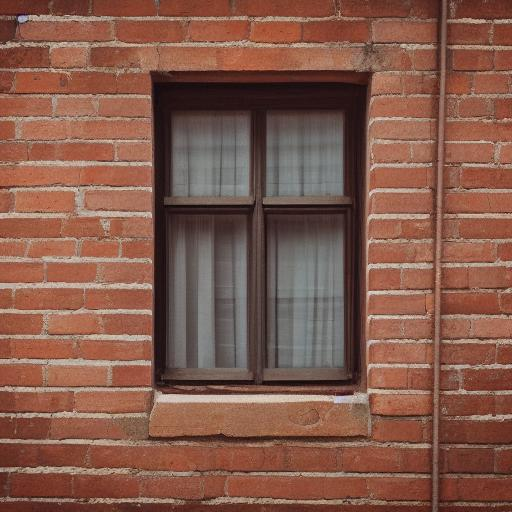Window: (148, 69, 373, 438)
